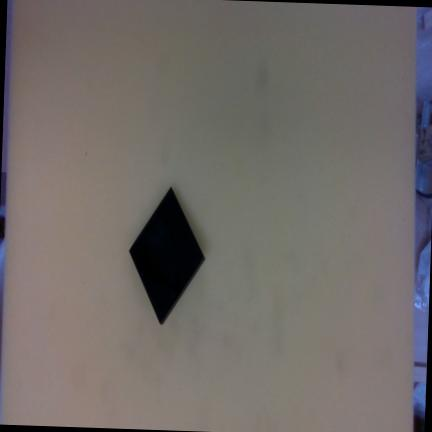tile: (108, 186, 223, 326)
